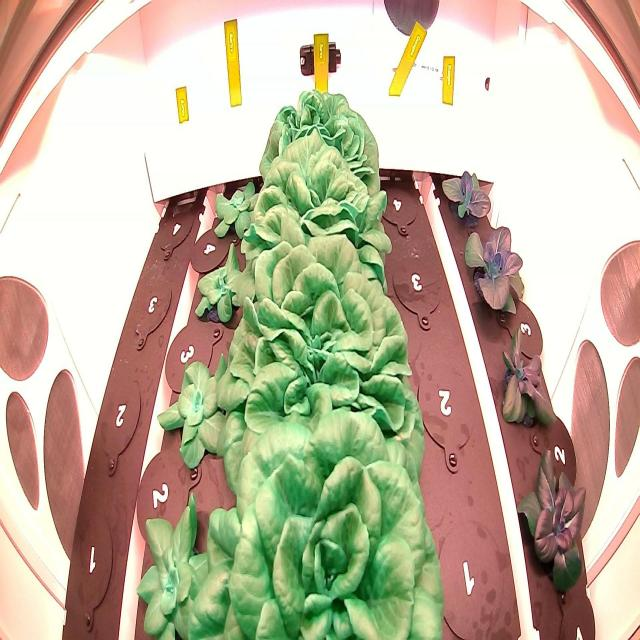Ready: (216, 402, 446, 639), (208, 229, 413, 456), (243, 122, 390, 266), (256, 85, 387, 209)
empty_pod: (428, 506, 509, 640), (408, 346, 479, 475), (64, 505, 120, 630), (385, 238, 449, 340), (93, 371, 148, 482), (127, 272, 174, 355), (374, 170, 419, 238), (154, 196, 197, 265)
young: (510, 434, 601, 610), (129, 485, 233, 634), (154, 346, 252, 471), (492, 312, 568, 442), (461, 214, 537, 322), (192, 233, 254, 328), (437, 153, 502, 242), (208, 170, 264, 254)
